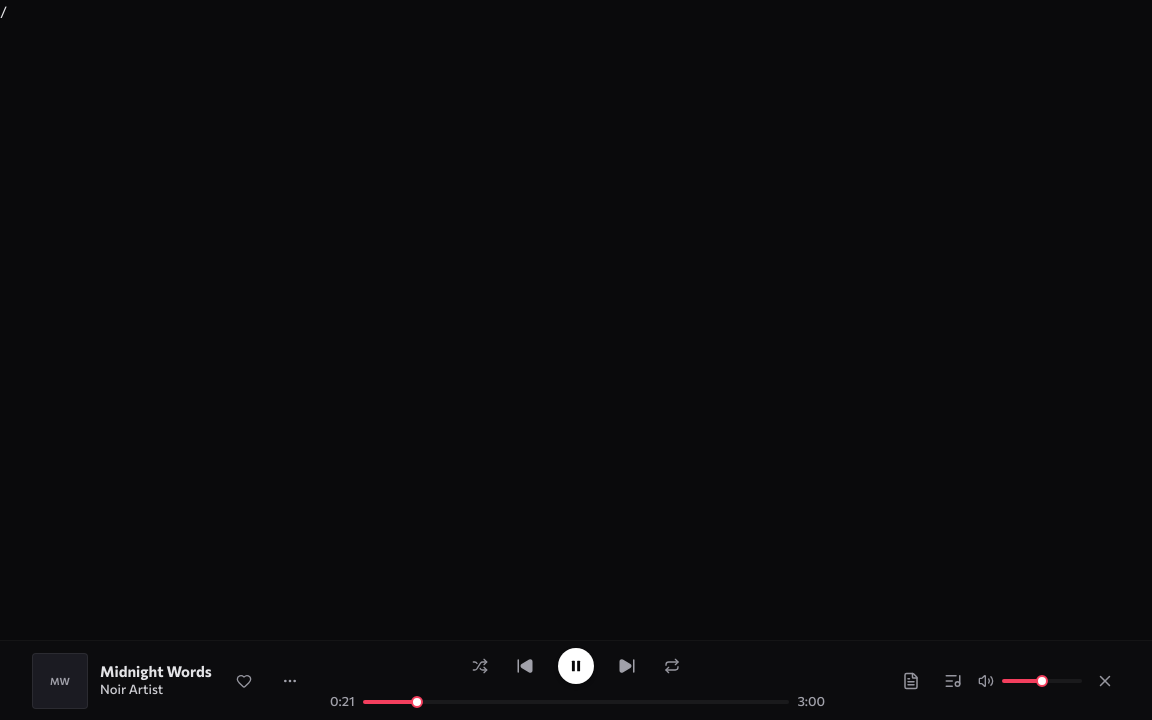
Test: lyrics UI › lets Enter activate the fullscreen title link and tear down the surface
Click the button named "Open fullscreen lyrics": [911, 680] box [894,664,928,698]
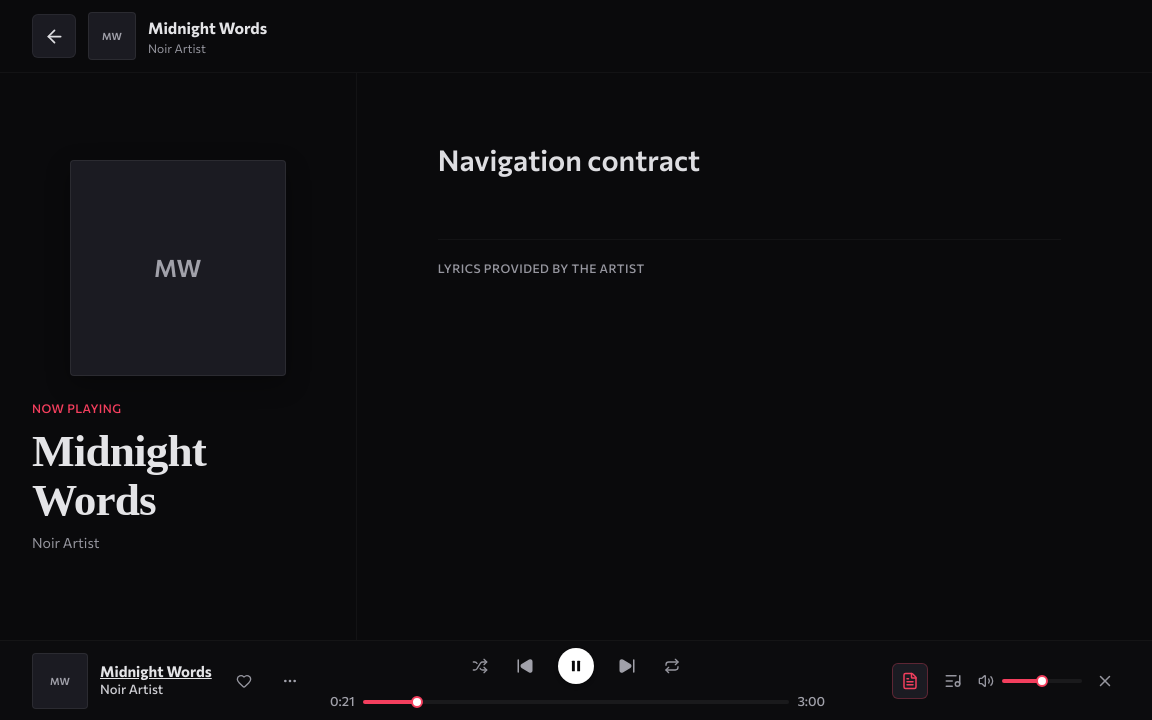
Press Enter
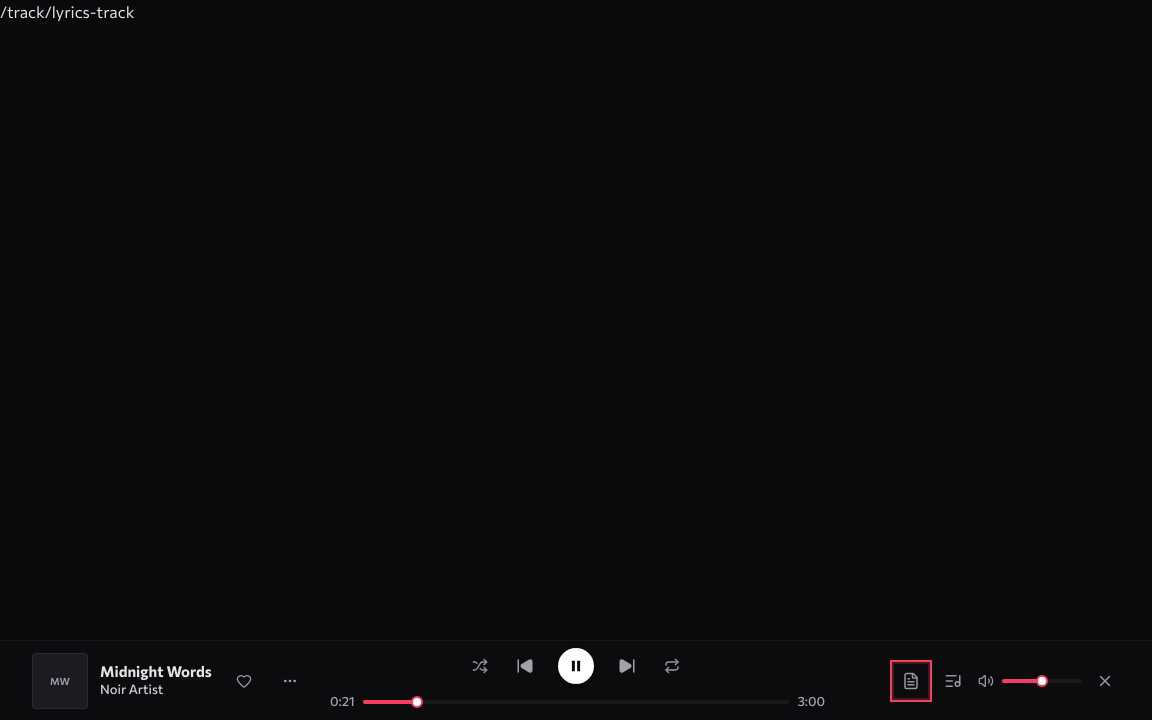
Expected: the dialog with test id "fullscreen-lyrics-player" is gone
